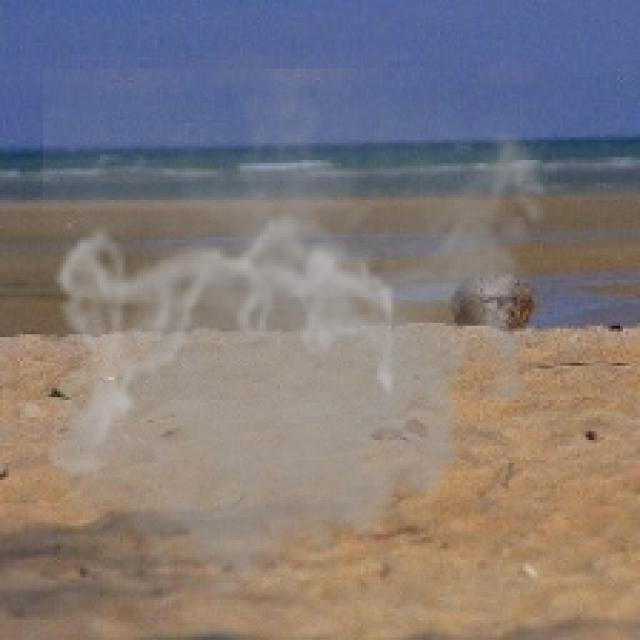Smoke: (43, 68, 563, 618)
